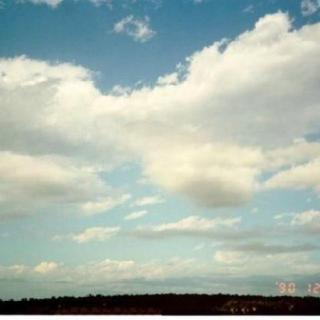Stratus: (0, 0, 320, 281)
